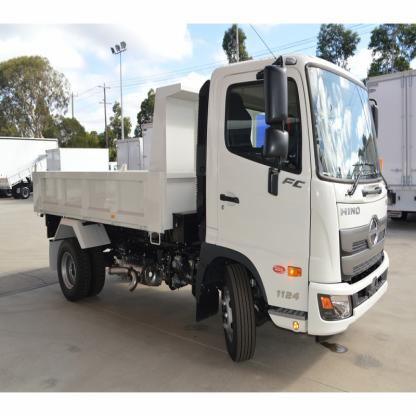dump_truck: (28, 42, 393, 364)
